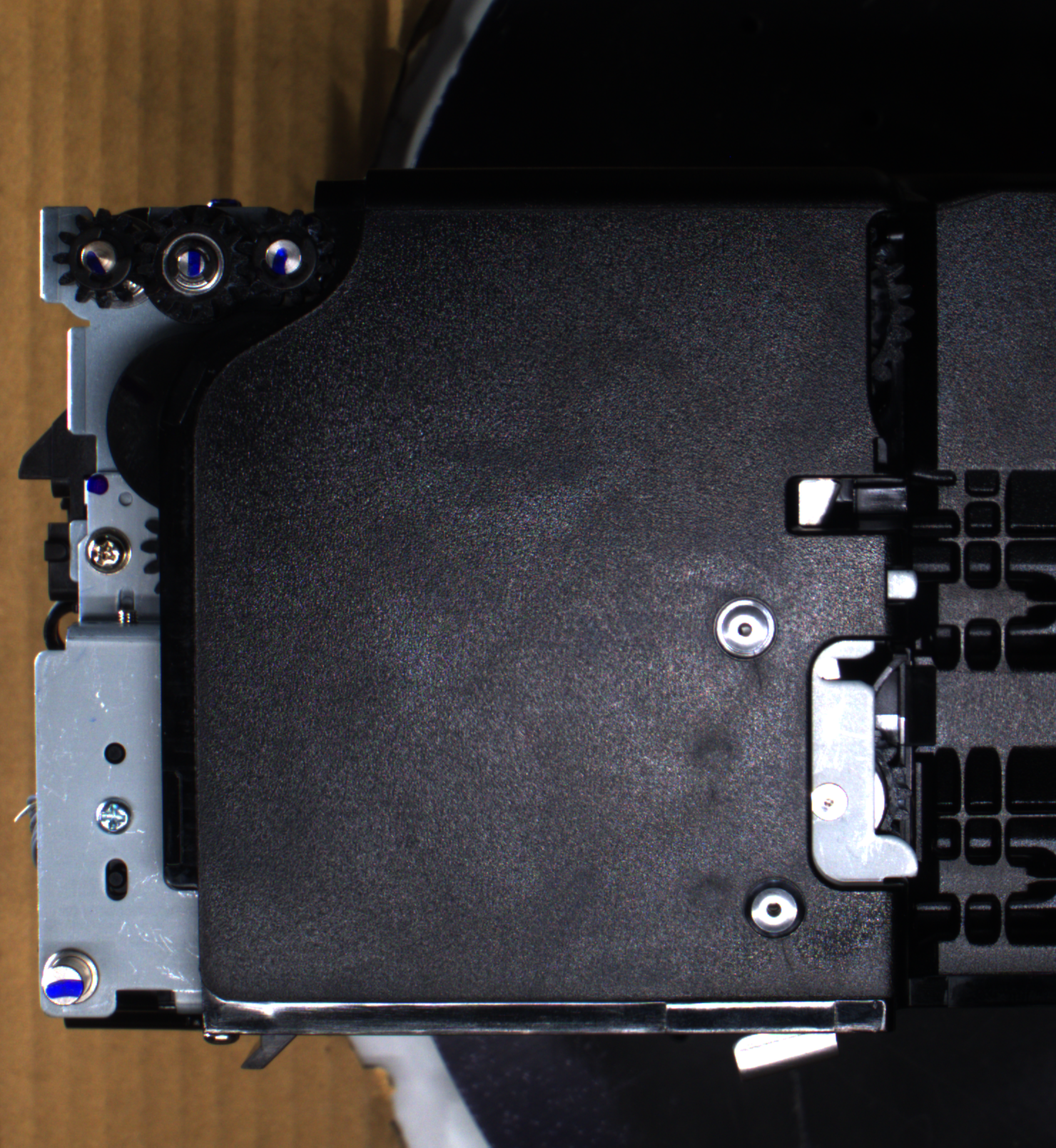centre_pin_presence: (725, 1015, 844, 1080)
centre_plate_presence: (799, 630, 928, 895)
centre_screw_presence: (709, 590, 782, 667), (737, 869, 810, 944)
gear1_presence: (51, 206, 152, 311)
gear2_presence: (138, 204, 250, 326)
gear3_presence: (233, 206, 332, 310)
side_screw_presence: (81, 525, 134, 575), (91, 796, 136, 836)
slanting_pin_presence: (35, 942, 108, 1016)
